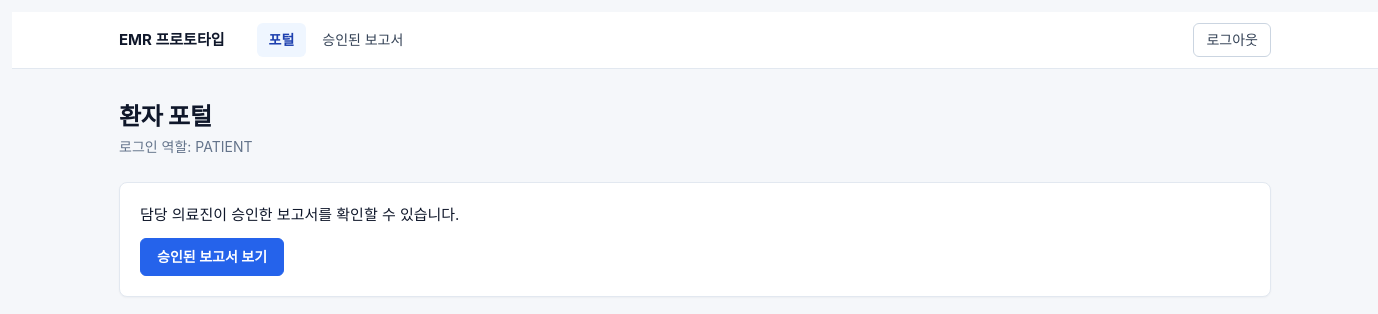
Scenario: PatientPortalPage › logs out and navigates to /login when the logout button is clicked
This screenshot has width=1378, height=314.
Click the button "로그아웃": click(1232, 40) x1=1194 y1=23 x2=1271 y2=57
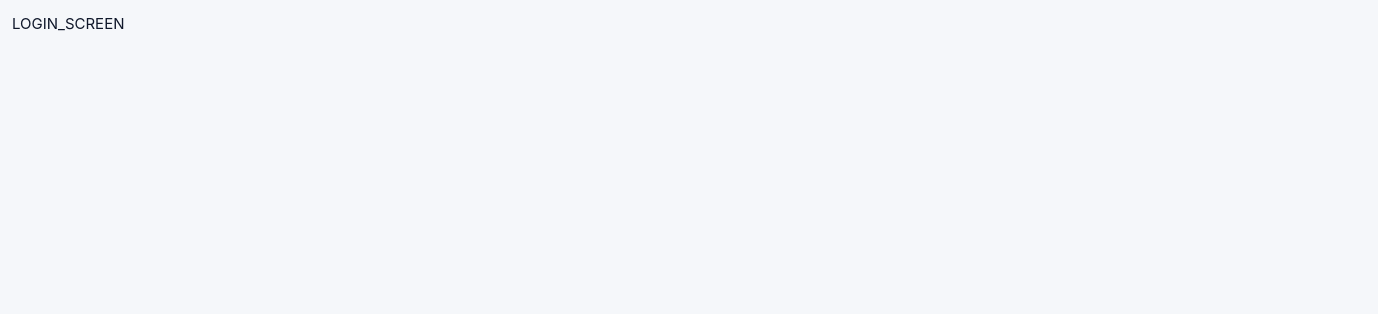
Result: the text "LOGIN_SCREEN" is shown at x1=12 y1=14 x2=124 y2=33
